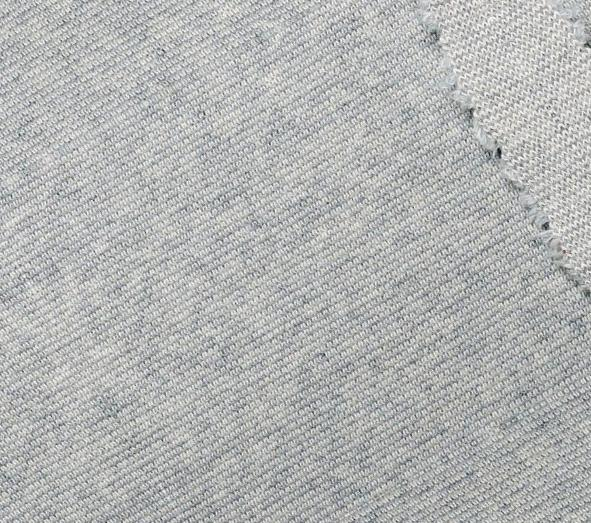slub: (412, 1, 591, 305)
